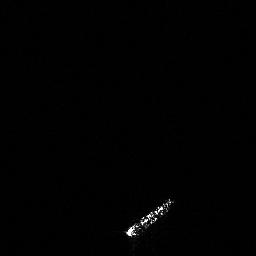ship: (120, 192, 179, 241)
